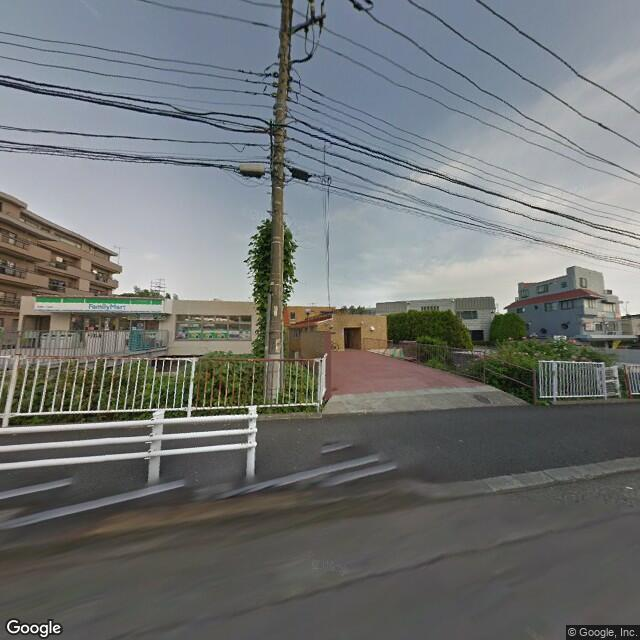family_mart: (33, 292, 166, 316)
